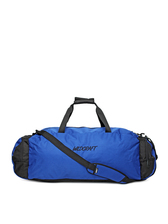bag: (10, 94, 162, 185)
